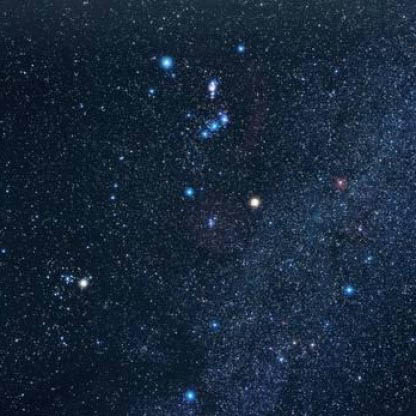Orion: (242, 190, 268, 216), (152, 48, 176, 74), (230, 39, 259, 58), (178, 181, 198, 205), (220, 105, 235, 130), (195, 125, 208, 147), (208, 114, 219, 137)
